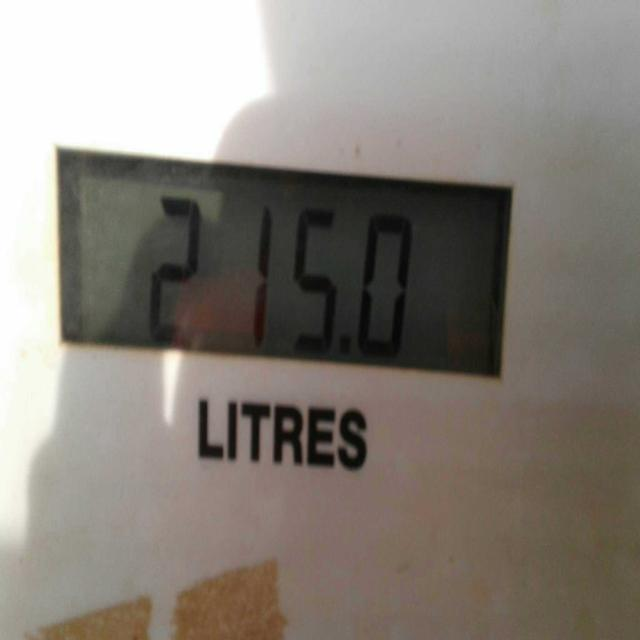.: (338, 330, 351, 354)
0: (357, 216, 408, 356)
1: (250, 200, 279, 352)
2: (152, 202, 202, 343)
5: (294, 205, 335, 352)
